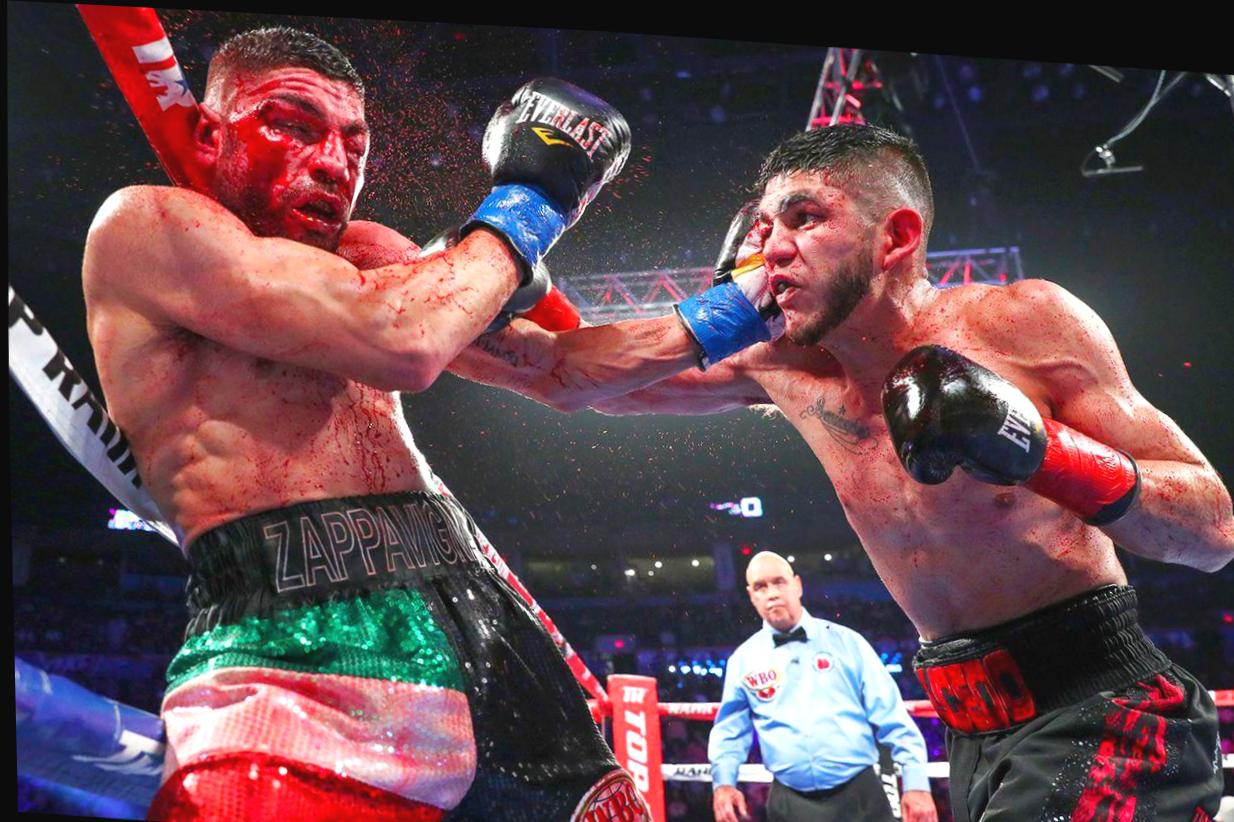Fire: (599, 161, 1234, 630), (86, 61, 518, 362), (163, 361, 429, 539)
